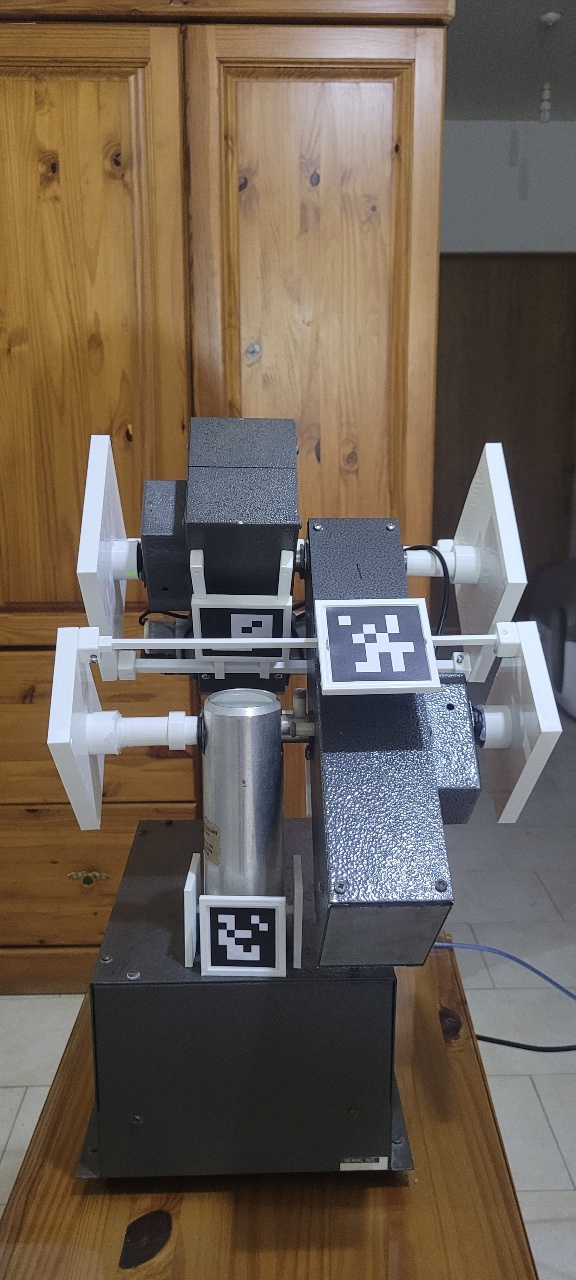Robot: (40, 413, 565, 984)
